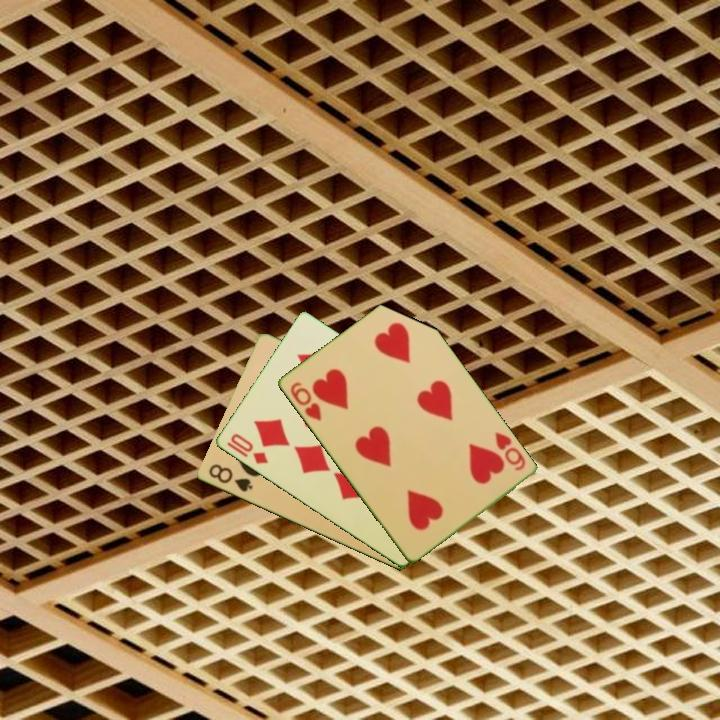10d: (226, 430, 271, 467)
6h: (286, 378, 324, 424), (491, 428, 528, 474)
8s: (205, 460, 255, 495)
